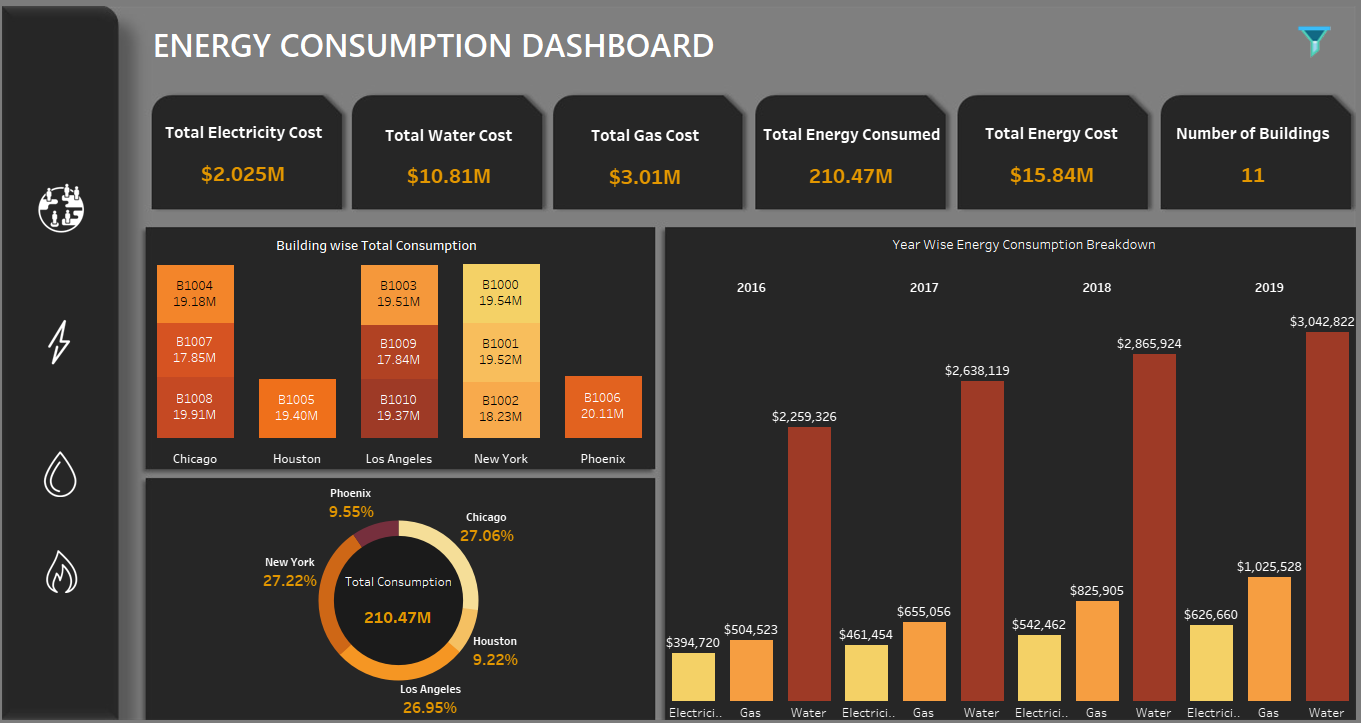

The page's visual inventory and layout, read from the dashboard file:
{"tool":"tableau","page":{"name":"Dashboard 1","canvas":[1366,720],"ordinal":0},"visuals":[{"type":"image","param":"Image/trail.jpg","box":[0,0,1366,720]},{"type":"text","box":[154,6,612,70]},{"type":"dashboard-object","box":[1293,19,50,38]},{"type":"filter","title":"cons by citiy","param":"[federated.14768py0nmov6b1293c7i02sff1x].[none:City:nk]","box":[1199,59,160,157]},{"type":"worksheet","title":"total enrgy cost ","mark":"Automatic","box":[960,97,193,111]},{"type":"worksheet","title":"no of building","mark":"Automatic","box":[1155,97,205,111]},{"type":"worksheet","title":"total ele cost","mark":"Automatic","box":[149,98,198,107]},{"type":"worksheet","title":"total water cost ","mark":"Automatic","box":[354,101,199,106]},{"type":"worksheet","title":"total Energy Consumed","mark":"Automatic","box":[756,101,200,105]},{"type":"worksheet","title":"total gas cost ","mark":"Automatic","box":[550,102,200,105]},{"type":"dashboard-object","box":[12,179,106,52]},{"type":"text","box":[161,227,439,30]},{"type":"text","box":[727,232,602,35]},{"type":"worksheet","title":"total consumption by building","mark":"Automatic","rows":["Calculation_350717854700883968"],"cols":["City"],"box":[148,252,511,214]},{"type":"worksheet","title":"Energy cost per year","mark":"Bar","cols":["Date"],"box":[669,274,691,445]},{"type":"dashboard-object","box":[14,313,104,52]},{"type":"dashboard-object","box":[7,448,114,46]},{"type":"worksheet","title":"cons by citiy","mark":"Pie","rows":["Calculation_562387037515497481","Calculation_562387037515497481"],"box":[148,476,509,243]},{"type":"dashboard-object","box":[13,547,105,43]}]}

Visuals, with their boxes in screenshot pixels (x1, y1, x2, y2), scaled from the page's 1366x720 canvas onto the 1361x723 screenshot:
image: Rect(0, 0, 1360, 722)
text: Rect(153, 6, 763, 76)
dashboard-object: Rect(1288, 19, 1338, 57)
"cons by citiy" filter: Rect(1195, 59, 1354, 217)
"total enrgy cost " worksheet: Rect(956, 97, 1149, 209)
"no of building" worksheet: Rect(1151, 97, 1355, 209)
"total ele cost" worksheet: Rect(148, 98, 346, 206)
"total water cost " worksheet: Rect(353, 101, 551, 208)
"total Energy Consumed" worksheet: Rect(753, 101, 953, 207)
"total gas cost " worksheet: Rect(548, 102, 747, 208)
dashboard-object: Rect(12, 180, 118, 232)
text: Rect(160, 228, 598, 258)
text: Rect(724, 233, 1324, 268)
"total consumption by building" worksheet: Rect(147, 253, 657, 468)
"Energy cost per year" worksheet (Bar marks): Rect(667, 275, 1355, 722)
dashboard-object: Rect(14, 314, 118, 367)
dashboard-object: Rect(7, 450, 121, 496)
"cons by citiy" worksheet (Pie marks): Rect(147, 478, 655, 722)
dashboard-object: Rect(13, 549, 118, 592)
